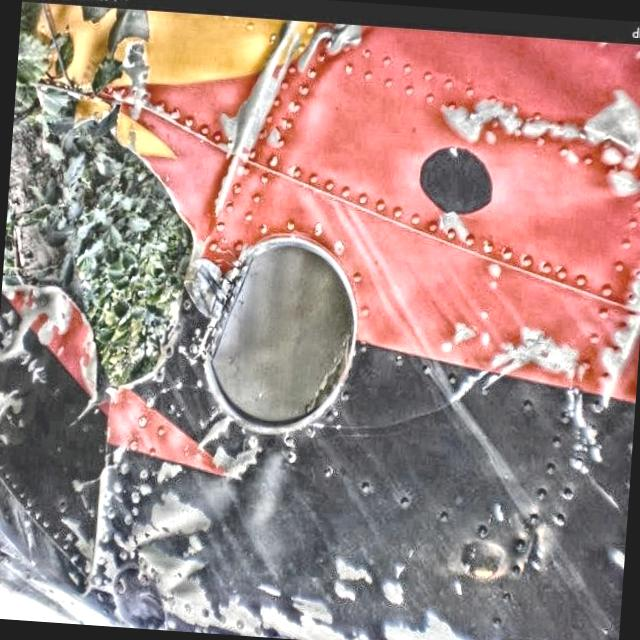dent: (203, 444, 342, 580), (479, 136, 640, 248)
